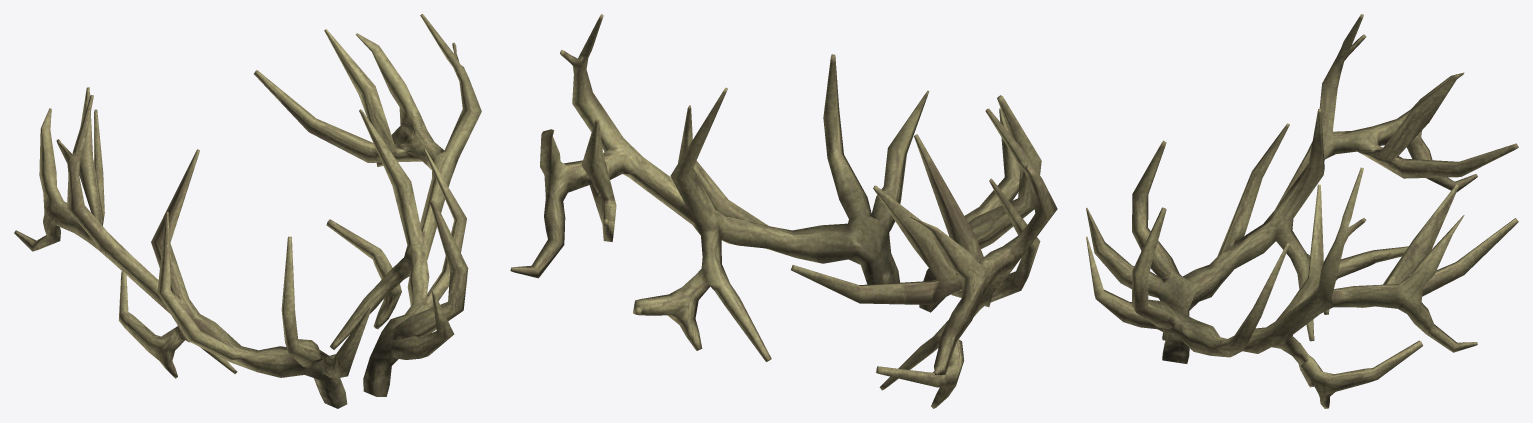
The model's file is antlers_high.glb.
3 renders of one model, left to right at view 1: azimuth 30°, elevation 25°; view 2: azimuth 150°, elevation 25°; view 3: azimuth 270°, elevation 25°, orthographic. The views are drawn at different scales.
Visible parts, largest first — view 1: deer-antlers.jpg__; view 2: deer-antlers.jpg__; view 3: deer-antlers.jpg__.
Boxes of the visible parts, x1,y1,x2,y2 form: deer-antlers.jpg__: [14, 14, 481, 408]; deer-antlers.jpg__: [510, 14, 1057, 408]; deer-antlers.jpg__: [1086, 14, 1518, 408].
Bounding box in the file's own units: 3.28 × 2.22 × 3.18.
1 material, 1 textured.
